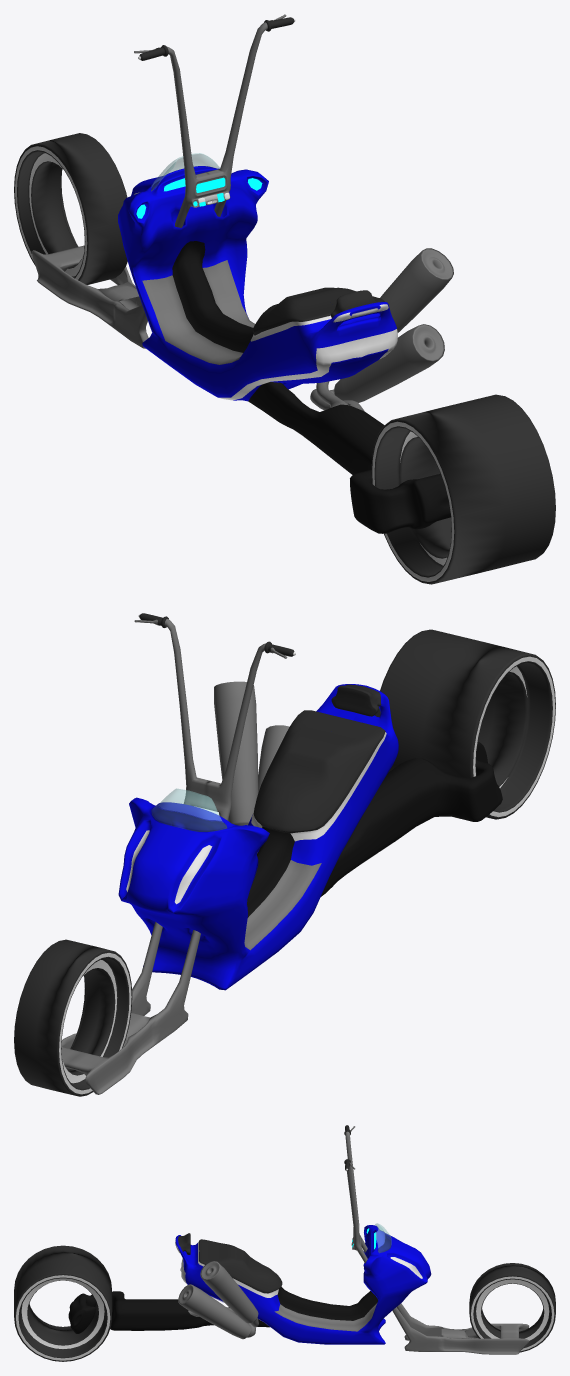
The model's file is Cycle.fbx.
The picture shows the model from 3 angles, top to bottom: view 1: azimuth 30°, elevation 25°; view 2: azimuth 150°, elevation 25°; view 3: azimuth 270°, elevation 25°; orthographic projection. The views are drawn at different scales.
Parts seen in each view (by area): view 1: Main, RearTire, FrontTire; view 2: Main, RearTire, FrontTire; view 3: Main, RearTire, FrontTire.
Boxes of the visible parts, x1,y1,x2,y2 form: Main: [31, 14, 453, 533]; RearTire: [371, 394, 555, 584]; FrontTire: [14, 133, 127, 284]; Main: [61, 613, 502, 1094]; RearTire: [374, 629, 555, 819]; FrontTire: [14, 939, 132, 1096]; Main: [68, 1125, 529, 1354]; RearTire: [14, 1245, 112, 1361]; FrontTire: [469, 1263, 555, 1352].
Bounding box in the file's own units: 3.37 × 5.78 × 13.96.
